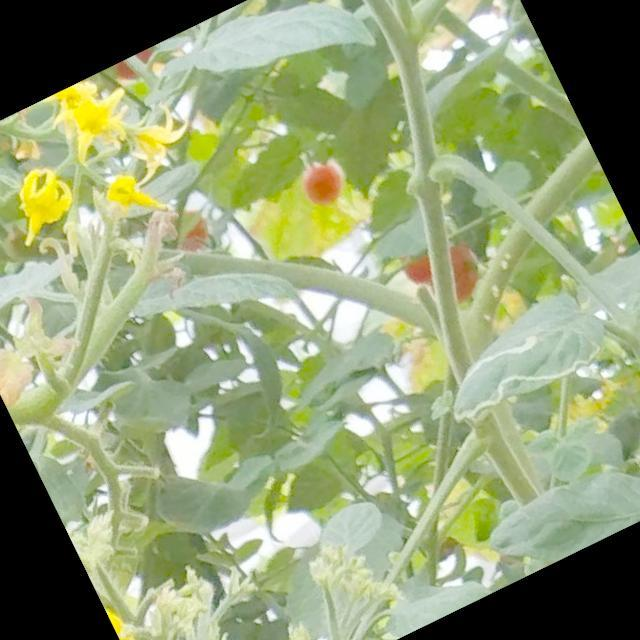Tomato target spot leaf: (422, 274, 626, 438)
